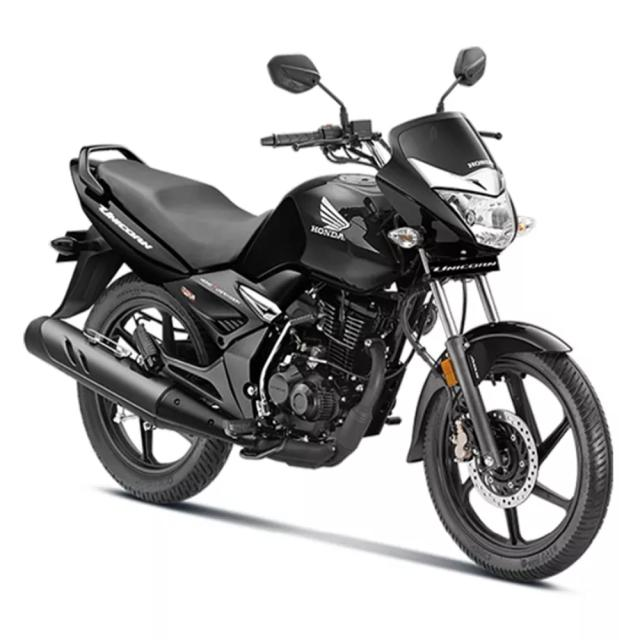Bike: (21, 77, 618, 587)
